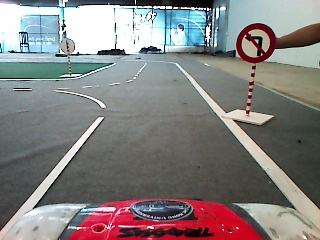ban_left: (236, 23, 276, 62)
